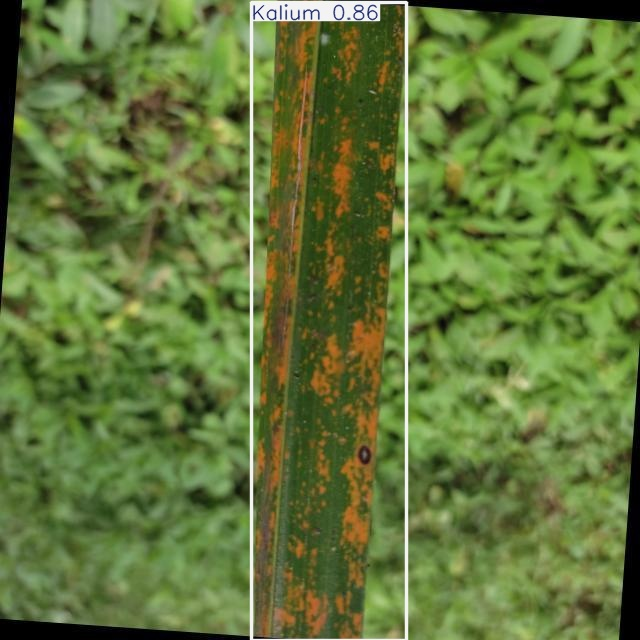Kalium: (251, 2, 406, 640)
